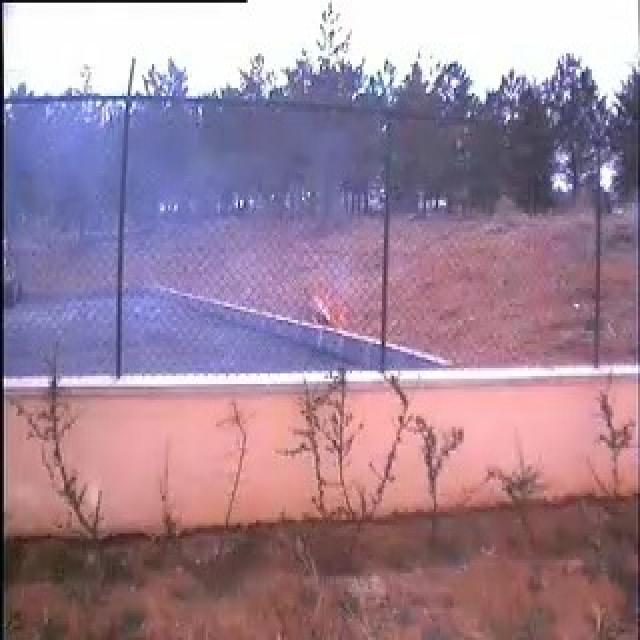smoke: (76, 96, 351, 364)
